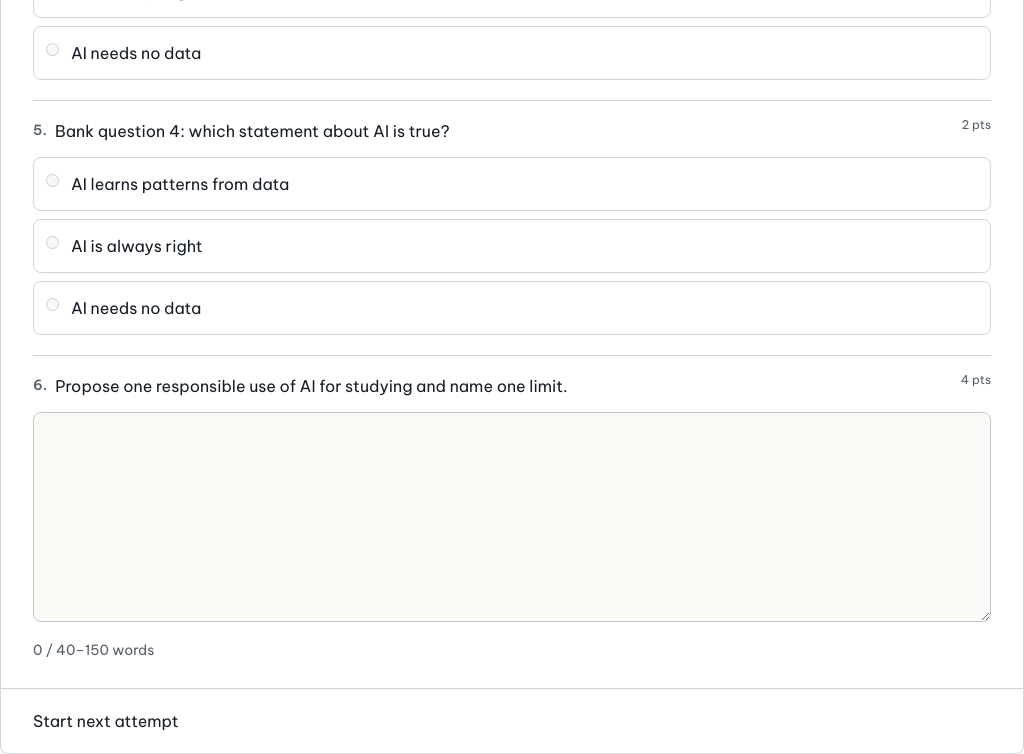
Scenario: ExamFlow › starts a next attempt only from an eligible terminal review
(page scrolled)
Click the button "Start next attempt" at (106, 721), box x1=33 y1=709 x2=179 y2=733
(page scrolled)
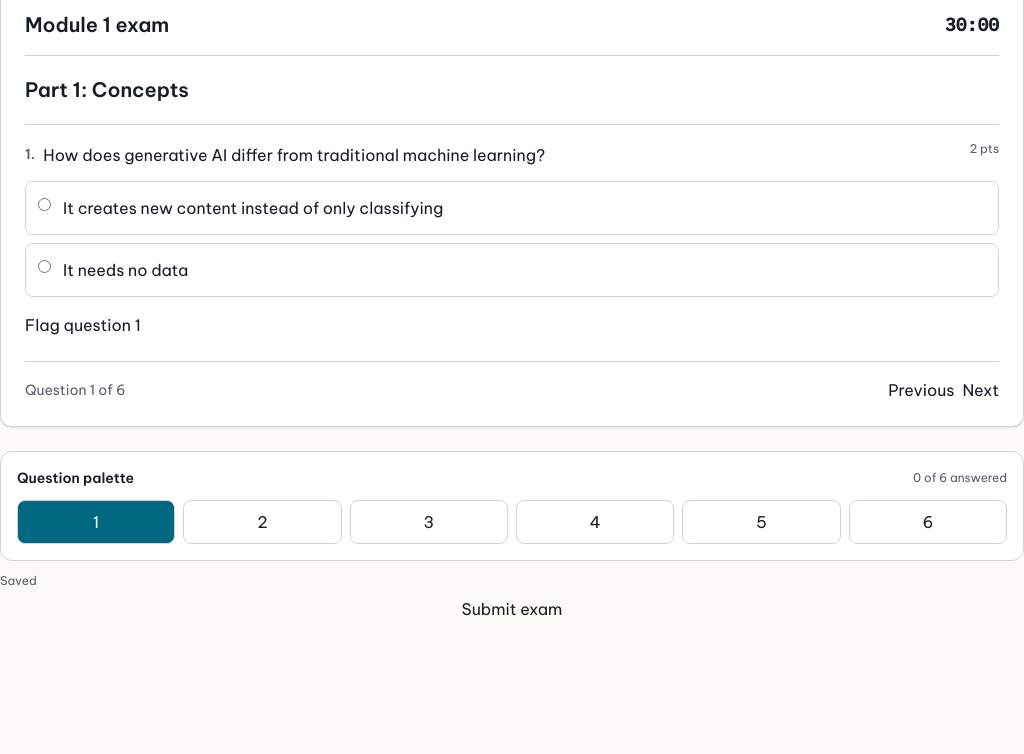
Result: the navigation bar named "Question palette" is shown at x1=17 y1=500 x2=1007 y2=544
